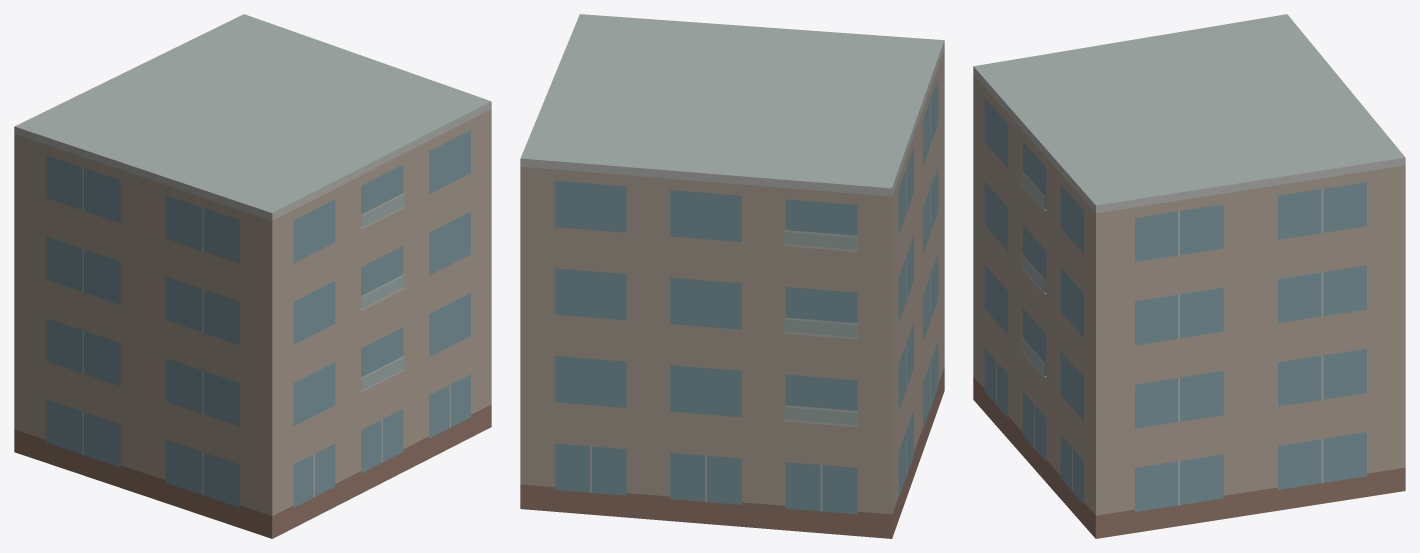
The model's file is survey-upis-32759812.glb.
3 views of the same model, side by side, from view 1: azimuth 30°, elevation 25°; view 2: azimuth 150°, elevation 25°; view 3: azimuth 270°, elevation 25° (orthographic). The views are drawn at different scales.
Parts seen in each view (by area): view 1: survey-upis-32759812.tmp; view 2: survey-upis-32759812.tmp; view 3: survey-upis-32759812.tmp.
Boxes of the visible parts, x1=… form: survey-upis-32759812.tmp: x1=14, y1=14, x2=491, y2=538; survey-upis-32759812.tmp: x1=520, y1=14, x2=944, y2=538; survey-upis-32759812.tmp: x1=973, y1=14, x2=1405, y2=538.
Size of the model in its own units: 12.83 by 10.4 by 12.23.
